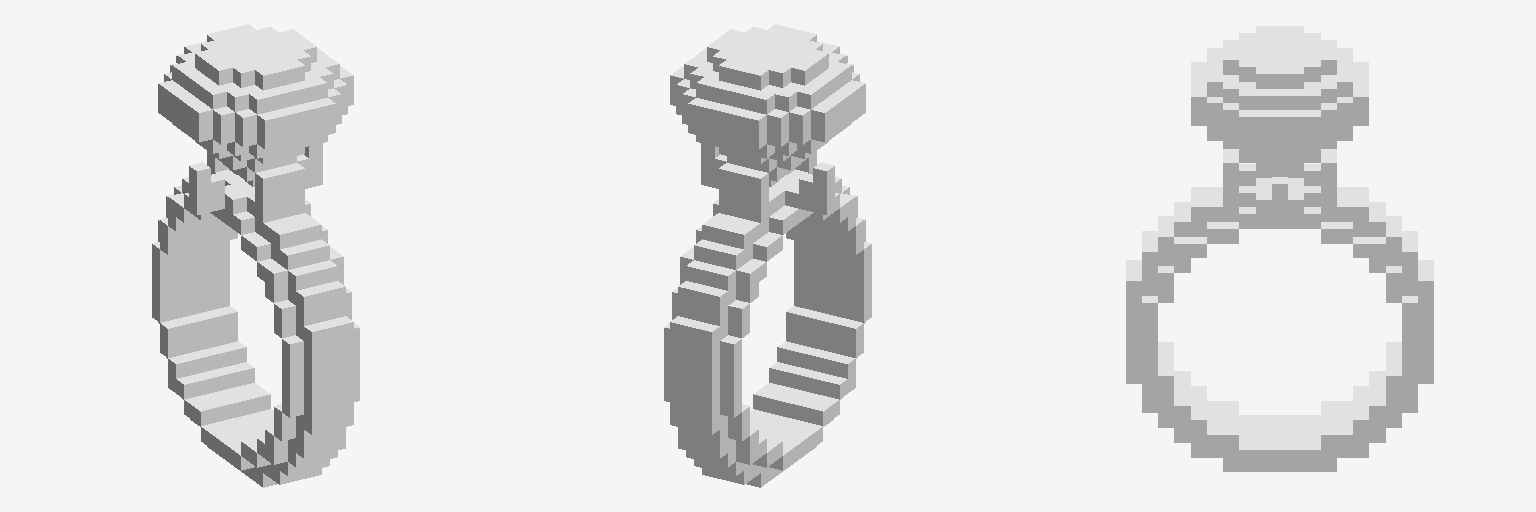
Rendered from ring_red.vox.obj.
3 renders of one model, left to right at view 1: azimuth 30°, elevation 25°; view 2: azimuth 150°, elevation 25°; view 3: azimuth 270°, elevation 25°, orthographic.
Visible parts, largest first — view 1: object 1; view 2: object 1; view 3: object 1.
Boxes of the visible parts, <box> form: object 1: <box>152,24,359,487</box>; object 1: <box>664,24,871,487</box>; object 1: <box>1126,26,1433,471</box>.
Bounding box in the file's own units: 1.1 × 2.8 × 1.9.